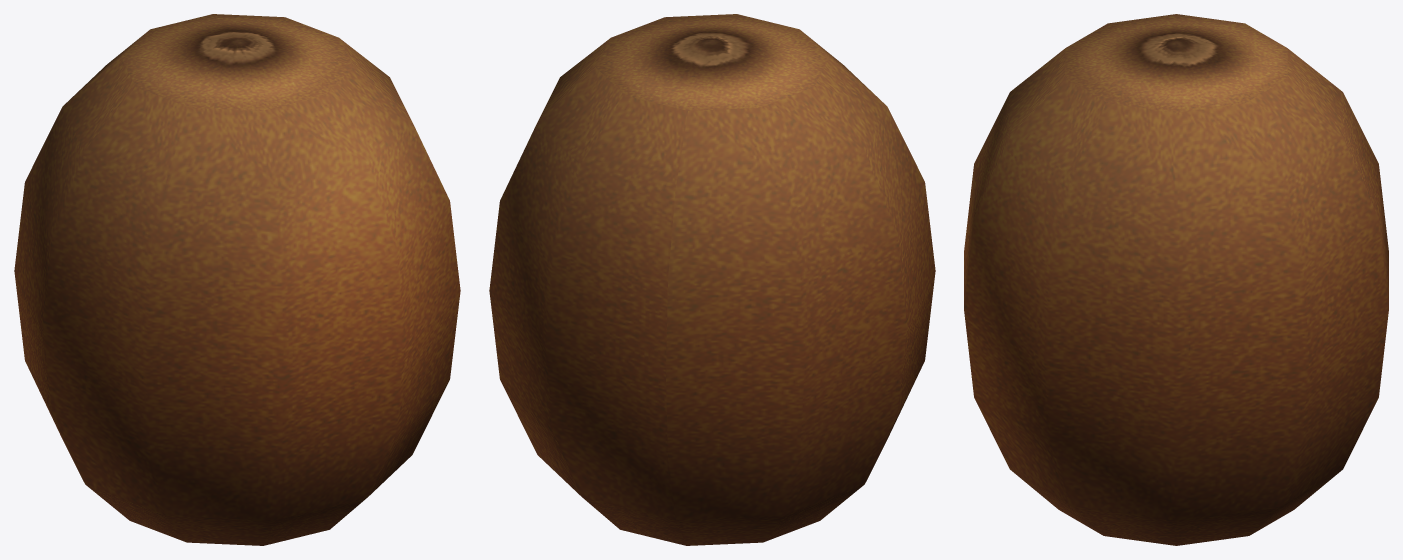
The model's file is Kiwi_Whole.fbx.
3 renders of one model, left to right at view 1: azimuth 30°, elevation 25°; view 2: azimuth 150°, elevation 25°; view 3: azimuth 270°, elevation 25°, orthographic.
Parts seen in each view (by area): view 1: Kiwi_Whole; view 2: Kiwi_Whole; view 3: Kiwi_Whole.
Part boxes in pixels (<box>): Kiwi_Whole: <box>14,14,460,545</box>; Kiwi_Whole: <box>489,14,935,545</box>; Kiwi_Whole: <box>964,14,1388,545</box>.
Bounding box in the file's own units: 23.64 × 27.83 × 22.49.
Materials: 1 (1 with a texture image).
